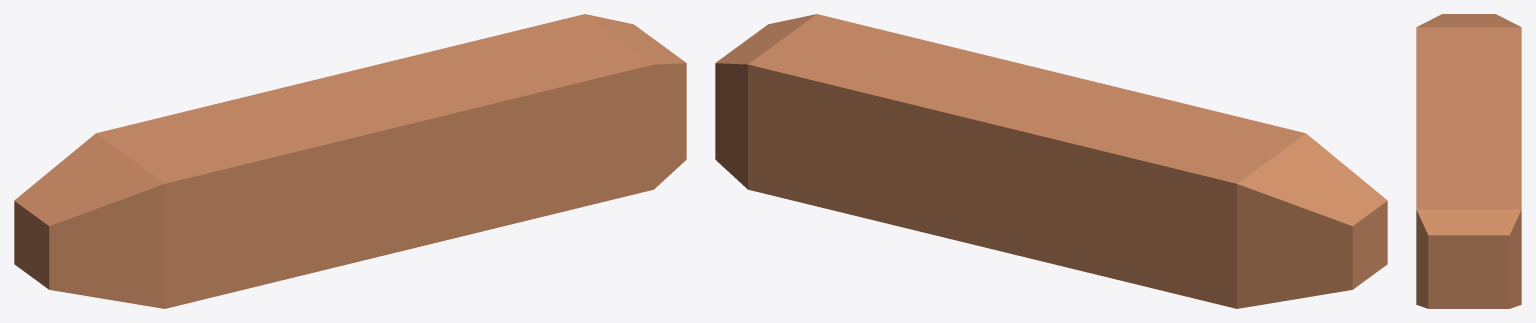
Rendered from fryingPanGrip.obj.
The picture shows the model from 3 angles, left to right: view 1: azimuth 30°, elevation 25°; view 2: azimuth 150°, elevation 25°; view 3: azimuth 270°, elevation 25°; orthographic projection. The views are drawn at different scales.
Visible parts, largest first — view 1: grip; view 2: grip; view 3: grip.
Boxes of the visible parts, x1,y1,x2,y2 form: grip: (14, 14, 686, 308); grip: (715, 14, 1387, 308); grip: (1416, 14, 1521, 308).
Bounding box in the file's own units: 0.1635 × 0.0311 × 0.0311.
